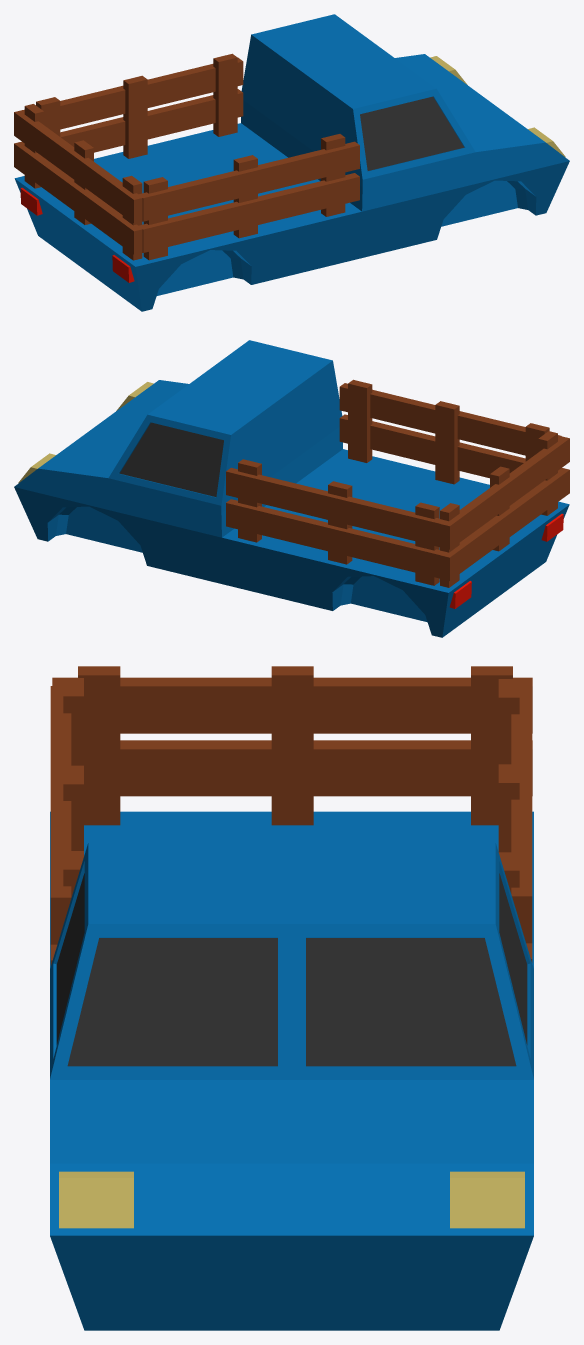
File: Car2.glb
3 renders of one model, top to bottom at view 1: azimuth 30°, elevation 25°; view 2: azimuth 150°, elevation 25°; view 3: azimuth 270°, elevation 25°, orthographic. The views are drawn at different scales.
Visible parts, largest first — view 1: Cube.013, Car2, Cube.015, Cube.012, Cube.011; view 2: Cube.013, Car2, Cube.012, Cube.015, Cube.011; view 3: Cube.013, Car2, Cube.011, Cube.012, Cube.015.
Boxes of the visible parts, box(x1,y1,x2,y2) form: Cube.013: box(241, 14, 569, 211); Car2: box(14, 123, 569, 311); Cube.015: box(138, 134, 359, 260); Cube.012: box(24, 53, 243, 158); Cube.011: box(14, 104, 142, 260); Cube.013: box(14, 340, 342, 537); Car2: box(14, 449, 569, 637); Cube.012: box(226, 459, 445, 585); Cube.015: box(339, 379, 561, 484); Cube.011: box(440, 431, 569, 587); Cube.013: box(50, 842, 533, 1235); Car2: box(50, 811, 533, 1330); Cube.011: box(52, 666, 532, 825); Cube.012: box(498, 679, 532, 962); Cube.015: box(50, 678, 83, 965).
Bounding box in the file's own units: 2.91 × 0.9586 × 1.4.
